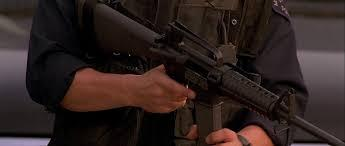rifle: (74, 0, 345, 146)
